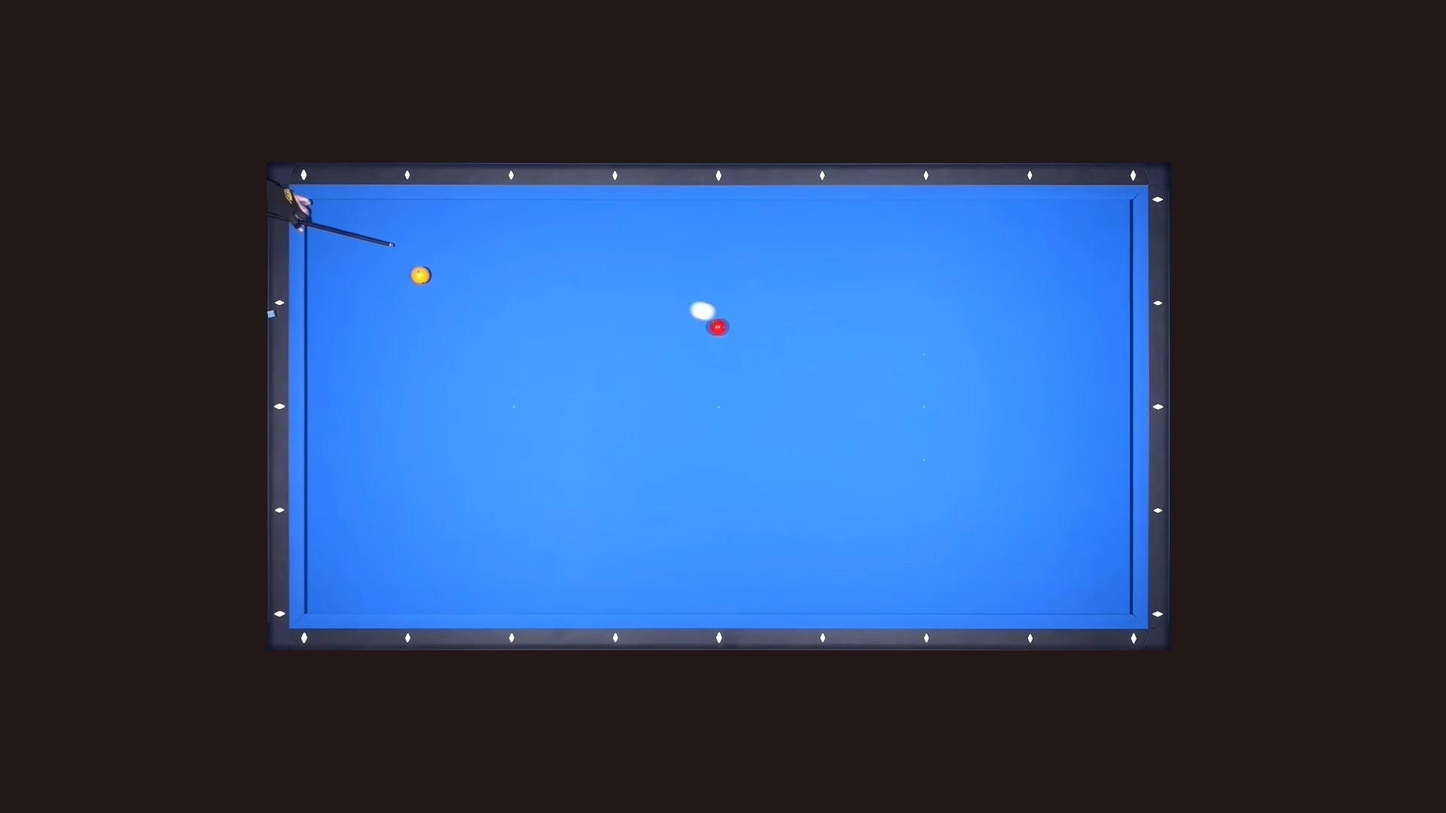-billiard-ball: (409, 265, 431, 285)
Red: (707, 319, 731, 337)
White: (690, 302, 722, 322)
Yellow: (406, 266, 432, 286)
